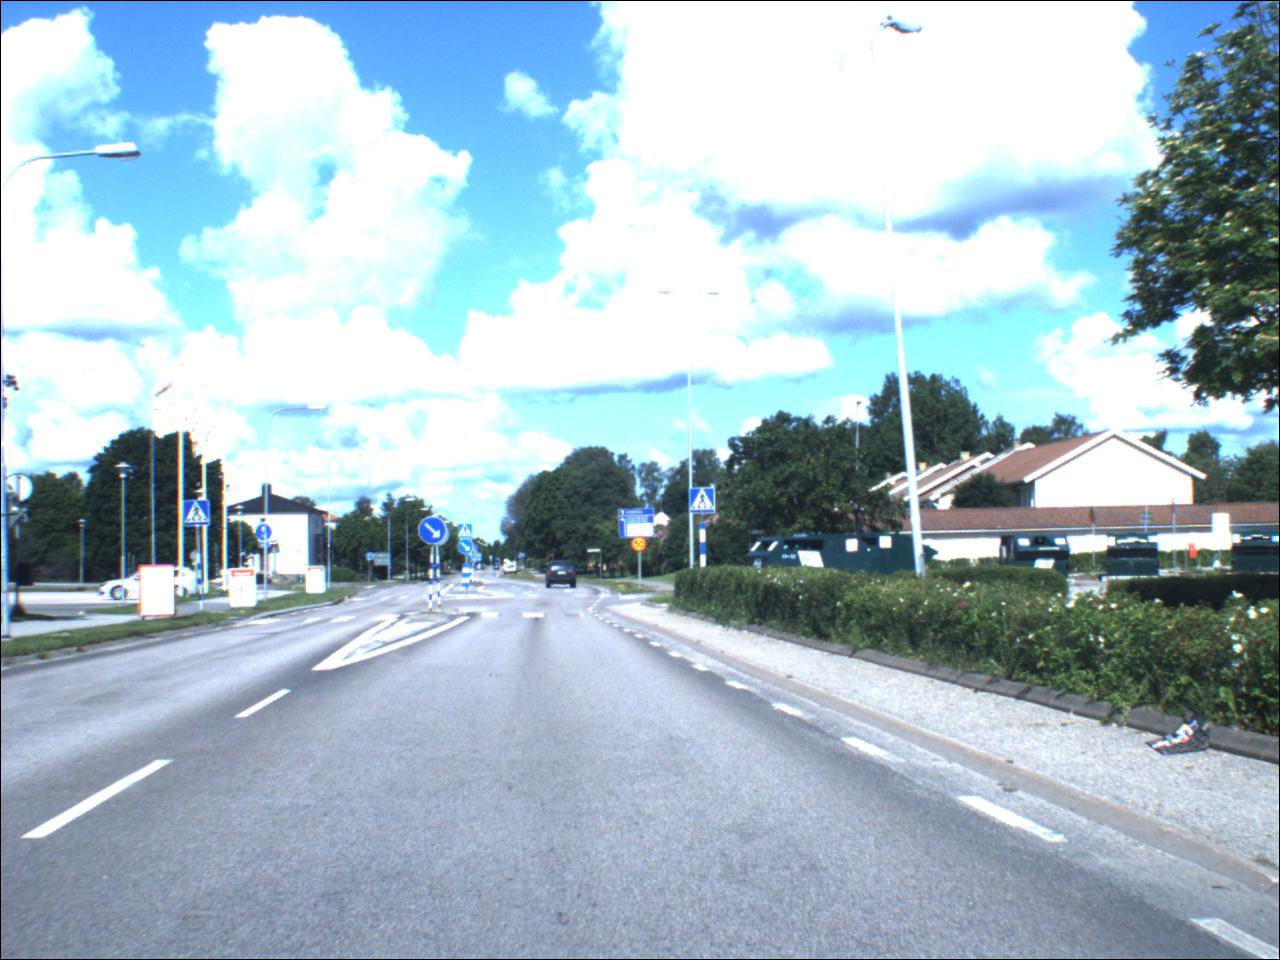50_SIGN: (634, 538, 649, 554)
PASS_RIGHT_SIDE: (419, 518, 449, 547), (460, 541, 476, 556)
PEDESTRIAN_CROSSING: (690, 490, 718, 517), (184, 503, 213, 528), (460, 525, 475, 541)
